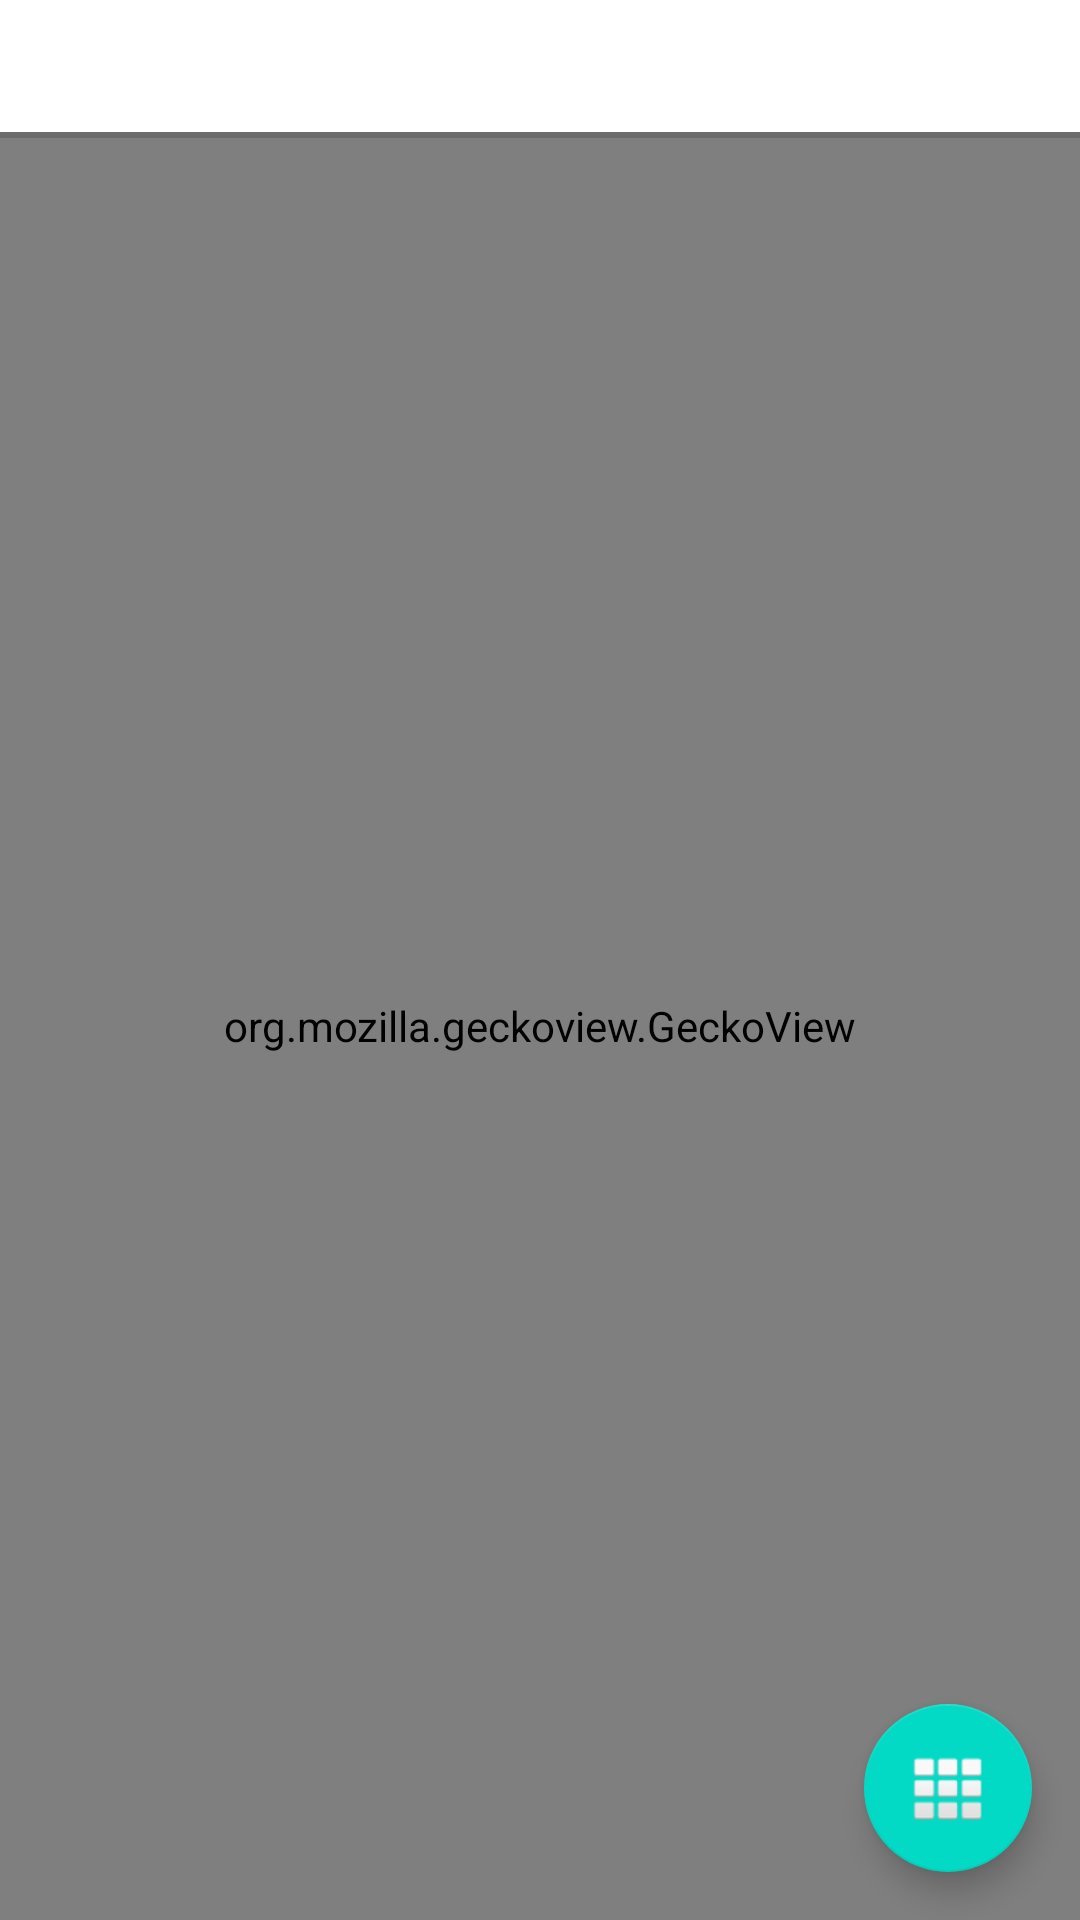

Named icons in this screenshot (1080 × 1920) and their bounding boxes, (x1,y1,x2,y2):
dialer: (864,1704,1032,1872)
